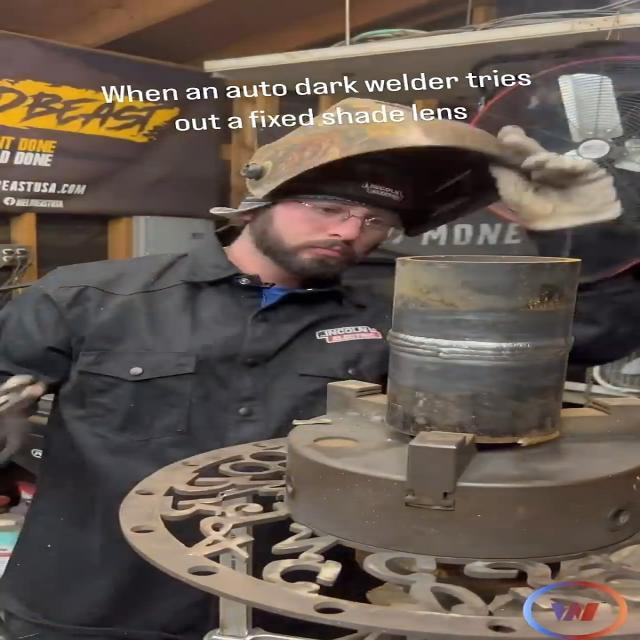helmet_lifted: (208, 94, 523, 282)
without_helmet: (243, 201, 393, 279)
